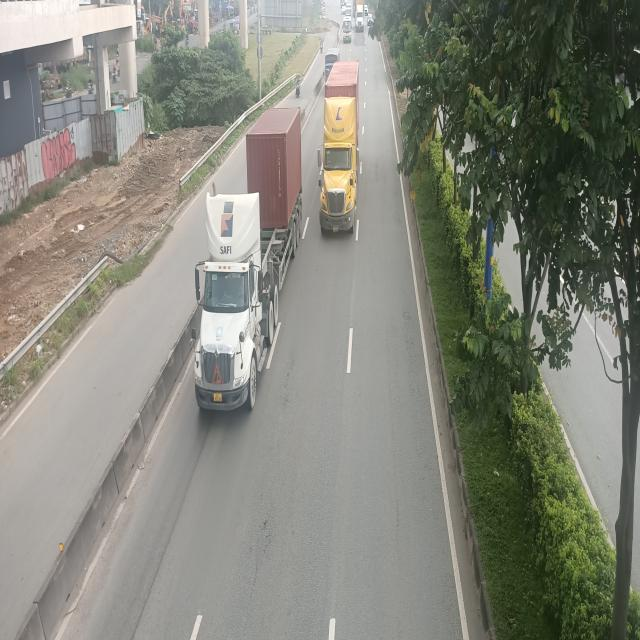container: (193, 110, 305, 413), (318, 62, 361, 236)
